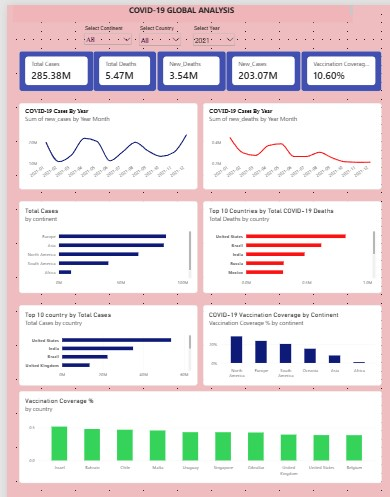

The page's visual inventory and layout, read from the dashboard file:
{"tool":"powerbi","page":{"name":"Global Overview","canvas":[2560,1440],"ordinal":0},"visuals":[{"type":"textbox","box":[16,0,944,48],"z":0},{"type":"cardVisual","fields":{"Data":["analytics covid_analytics_cleaned.Total Cases"]},"box":[32,128,208,112],"z":1000},{"type":"cardVisual","fields":{"Data":["Sum(analytics covid_analytics_cleaned.new_deaths)"]},"box":[416,128,192,112],"z":2000},{"type":"cardVisual","fields":{"Data":["Sum(analytics covid_analytics_cleaned.new_cases)"]},"box":[608,128,208,112],"z":3000},{"type":"cardVisual","fields":{"Data":["analytics covid_analytics_cleaned.Vaccination Coverage %"]},"box":[816,128,224,112],"z":4000},{"type":"lineChart","title":"COVID-19 Cases By Year","fields":{"Category":["DateTable.Year Month"],"Y":["Sum(analytics covid_analytics_cleaned.new_cases)"]},"box":[32,272,496,240],"z":5000},{"type":"lineChart","title":"COVID-19 Cases By Year","fields":{"Category":["DateTable.Year Month"],"Y":["Sum(analytics covid_analytics_cleaned.new_deaths)"]},"box":[544,272,496,240],"z":6000},{"type":"clusteredBarChart","fields":{"Category":["analytics covid_analytics_cleaned.continent"],"Y":["analytics covid_analytics_cleaned.Total Cases"]},"box":[32,544,496,256],"z":7000},{"type":"clusteredBarChart","title":"Top 10 country by Total Cases","fields":{"Category":["analytics covid_analytics_cleaned.country"],"Y":["analytics covid_analytics_cleaned.Total Cases"]},"box":[32,832,496,224],"z":8000},{"type":"clusteredBarChart","title":"Top 10 Countries by Total COVID-19 Deaths","fields":{"Category":["analytics covid_analytics_cleaned.country"],"Y":["analytics covid_analytics_cleaned.Total Deaths"]},"box":[544,544,496,256],"z":9000},{"type":"slicer","fields":{"Values":["analytics covid_analytics_cleaned.continent"]},"box":[208,56,144,64],"z":10000},{"type":"slicer","fields":{"Values":["analytics covid_analytics_cleaned.country"]},"box":[360,56,128,128],"z":11000},{"type":"slicer","fields":{"Values":["DateTable.Year"]},"box":[512,56,128,128],"z":12000},{"type":"cardVisual","fields":{"Data":["analytics covid_analytics_cleaned.Total Deaths"]},"box":[240,128,176,112],"z":13000},{"type":"clusteredColumnChart","title":"COVID-19 Vaccination Coverage by Continent","fields":{"Category":["analytics covid_analytics_cleaned.continent"],"Y":["analytics covid_analytics_cleaned.Vaccination Coverage %"]},"box":[544,832,496,224],"z":14000},{"type":"clusteredColumnChart","fields":{"Category":["analytics covid_analytics_cleaned.country"],"Y":["analytics covid_analytics_cleaned.Vaccination Coverage %"]},"box":[32,1072,1008,256],"z":15000}]}

Visuals, with their boxes on the page's 2560x1440 design canvas (x1, y1, x2, y2). These are canvas units, not pixel positions in the 390x497 screenshot, which may show the page scaled, cropped or inside an application window:
textbox: [left=16, top=0, right=960, bottom=48]
cardVisual - analytics covid_analytics_cleaned.Total Cases: [left=32, top=128, right=240, bottom=240]
cardVisual - Sum(analytics covid_analytics_cleaned.new_deaths): [left=416, top=128, right=608, bottom=240]
cardVisual - Sum(analytics covid_analytics_cleaned.new_cases): [left=608, top=128, right=816, bottom=240]
cardVisual - analytics covid_analytics_cleaned.Vaccination Coverage %: [left=816, top=128, right=1040, bottom=240]
"COVID-19 Cases By Year" lineChart: [left=32, top=272, right=528, bottom=512]
"COVID-19 Cases By Year" lineChart: [left=544, top=272, right=1040, bottom=512]
clusteredBarChart - analytics covid_analytics_cleaned.continent x analytics covid_analytics_cleaned.Total Cases: [left=32, top=544, right=528, bottom=800]
"Top 10 country by Total Cases" clusteredBarChart: [left=32, top=832, right=528, bottom=1056]
"Top 10 Countries by Total COVID-19 Deaths" clusteredBarChart: [left=544, top=544, right=1040, bottom=800]
slicer - analytics covid_analytics_cleaned.continent: [left=208, top=56, right=352, bottom=120]
slicer - analytics covid_analytics_cleaned.country: [left=360, top=56, right=488, bottom=184]
slicer - DateTable.Year: [left=512, top=56, right=640, bottom=184]
cardVisual - analytics covid_analytics_cleaned.Total Deaths: [left=240, top=128, right=416, bottom=240]
"COVID-19 Vaccination Coverage by Continent" clusteredColumnChart: [left=544, top=832, right=1040, bottom=1056]
clusteredColumnChart - analytics covid_analytics_cleaned.country x analytics covid_analytics_cleaned.Vaccination Coverage %: [left=32, top=1072, right=1040, bottom=1328]
